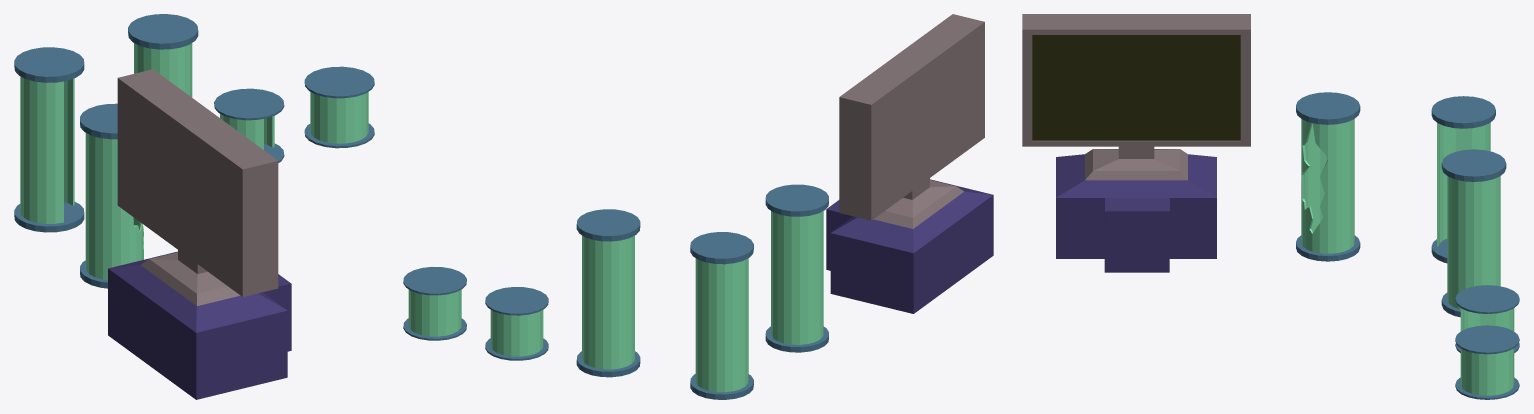
File: ExperimentalLabProps_SeamMarked.fbx
3 renders of one model, left to right at view 1: azimuth 30°, elevation 25°; view 2: azimuth 150°, elevation 25°; view 3: azimuth 270°, elevation 25°, orthographic. The views are drawn at different scales.
Visible parts, largest first — view 1: Experimental_Lab_Computer, Experiment_Pod_Large_Empty.001, Experiment_Pod_Large_Broken, Experiment_Pod_Small, Experiment_Pod_Large, Experiment_Pod_Small_Empty.002; view 2: Experimental_Lab_Computer, Experiment_Pod_Large_Empty.001, Experiment_Pod_Large, Experiment_Pod_Large_Broken, Experiment_Pod_Small_Empty.002, Experiment_Pod_Small; view 3: Experimental_Lab_Computer, Experiment_Pod_Large_Broken, Experiment_Pod_Large, Experiment_Pod_Large_Empty.001, Experiment_Pod_Small, Experiment_Pod_Small_Empty.002.
Part boxes in pixels (box(x1,y1,x2,y2)): Experimental_Lab_Computer: box(108, 69, 291, 399); Experiment_Pod_Large_Empty.001: box(14, 47, 84, 232); Experiment_Pod_Large_Broken: box(80, 103, 143, 288); Experiment_Pod_Small: box(304, 66, 374, 148); Experiment_Pod_Large: box(128, 14, 198, 97); Experiment_Pod_Small_Empty.002: box(214, 88, 284, 162); Experimental_Lab_Computer: box(826, 14, 993, 313); Experiment_Pod_Large_Empty.001: box(690, 232, 753, 399); Experiment_Pod_Large: box(576, 209, 640, 377); Experiment_Pod_Large_Broken: box(765, 184, 828, 352); Experiment_Pod_Small_Empty.002: box(485, 287, 548, 360); Experiment_Pod_Small: box(403, 267, 466, 340); Experimental_Lab_Computer: box(1022, 14, 1250, 272); Experiment_Pod_Large_Broken: box(1296, 92, 1360, 261); Experiment_Pod_Large: box(1441, 149, 1506, 317); Experiment_Pod_Large_Empty.001: box(1431, 96, 1495, 263); Experiment_Pod_Small: box(1455, 325, 1519, 399); Experiment_Pod_Small_Empty.002: box(1455, 285, 1519, 352).
Size of the model in its own units: 13.44 by 7.43 by 15.46.
